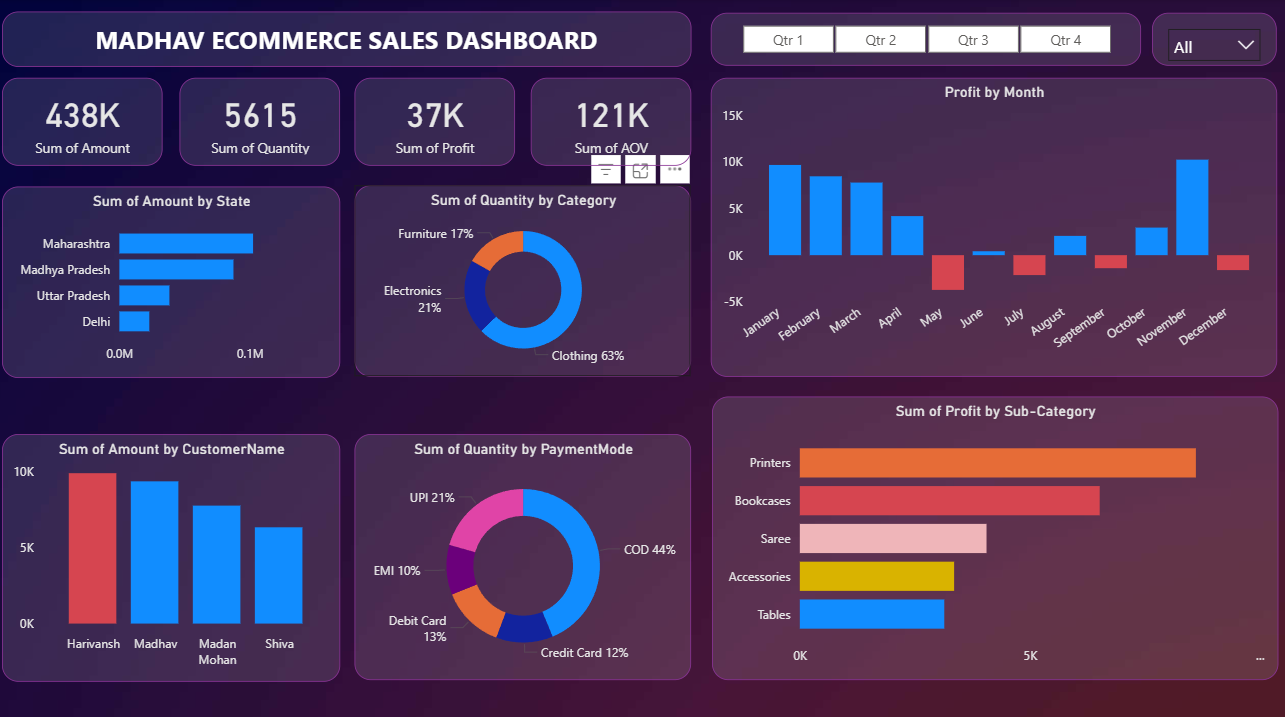

This screenshot's page, from the dashboard's own definition file:
{"tool":"powerbi","page":{"name":"Page 1","canvas":[1280,720],"ordinal":0},"visuals":[{"type":"textbox","box":[9.6,12.3,676.5,54],"z":0},{"type":"columnChart","title":"Profit by Month","fields":{"Y":["Details.Profit"],"Category":["Orders.Order Date.Variation.Date Hierarchy.Month"]},"box":[705.3,76.8,555.7,293.7],"z":1000},{"type":"barChart","fields":{"Category":["Details.Sub-Category"],"Y":["Details.Profit"]},"box":[706.7,389.7,555.7,278.6],"z":2000},{"type":"donutChart","fields":{"Category":["Details.Category"],"Y":["Details.Quantity"]},"box":[355.4,182.5,330.7,188],"z":3000},{"type":"donutChart","fields":{"Y":["Details.Quantity"],"Series":["Details.PaymentMode"]},"box":[355.4,426.8,330.7,241.5],"z":4000},{"type":"card","fields":{"Values":["Details.Amount"]},"box":[9.6,76.8,157.8,86.4],"z":5000},{"type":"card","fields":{"Values":["Details.AOV"]},"box":[528.3,76.8,157.8,86.4],"z":6000},{"type":"card","fields":{"Values":["Details.Profit"]},"box":[355.4,76.8,157.8,86.4],"z":7000},{"type":"card","fields":{"Values":["Details.Quantity"]},"box":[183.9,76.8,157.8,86.4],"z":8000},{"type":"barChart","fields":{"Category":["Orders.State"],"Y":["Details.Amount"]},"box":[9.6,183.9,332.1,188],"z":9000},{"type":"columnChart","fields":{"Category":["Orders.CustomerName"],"Y":["Details.Amount"]},"box":[9.6,426.8,332.1,242.9],"z":10000},{"type":"slicer","fields":{"Values":["Orders.Order Date.Variation.Date Hierarchy.Quarter"]},"box":[705.3,13.7,422.6,52.1],"z":11000},{"type":"slicer","fields":{"Values":["Orders.City"]},"box":[1138.9,13.7,122.1,52.1],"z":12000}]}

Visuals, with their boxes in screenshot pixels (x1, y1, x2, y2), scaled from the page's 1280x720 canvas onto the 1285x717 screenshot:
textbox: bbox=[10, 12, 689, 66]
"Profit by Month" columnChart: bbox=[708, 76, 1266, 369]
barChart - Details.Sub-Category x Details.Profit: bbox=[709, 388, 1267, 666]
donutChart - Details.Category x Details.Quantity: bbox=[357, 182, 689, 369]
donutChart - Details.Quantity x Details.PaymentMode: bbox=[357, 425, 689, 666]
card - Details.Amount: bbox=[10, 76, 168, 163]
card - Details.AOV: bbox=[530, 76, 689, 163]
card - Details.Profit: bbox=[357, 76, 515, 163]
card - Details.Quantity: bbox=[185, 76, 343, 163]
barChart - Orders.State x Details.Amount: bbox=[10, 183, 343, 370]
columnChart - Orders.CustomerName x Details.Amount: bbox=[10, 425, 343, 667]
slicer - Orders.Order Date.Variation.Date Hierarchy.Quarter: bbox=[708, 14, 1132, 66]
slicer - Orders.City: bbox=[1143, 14, 1266, 66]
